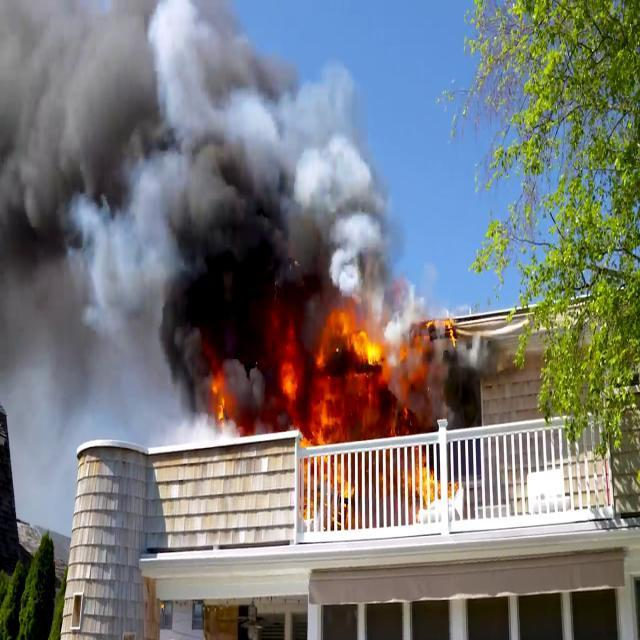Fire: (273, 304, 438, 443), (204, 344, 230, 419)
Smoke: (0, 2, 428, 395)
